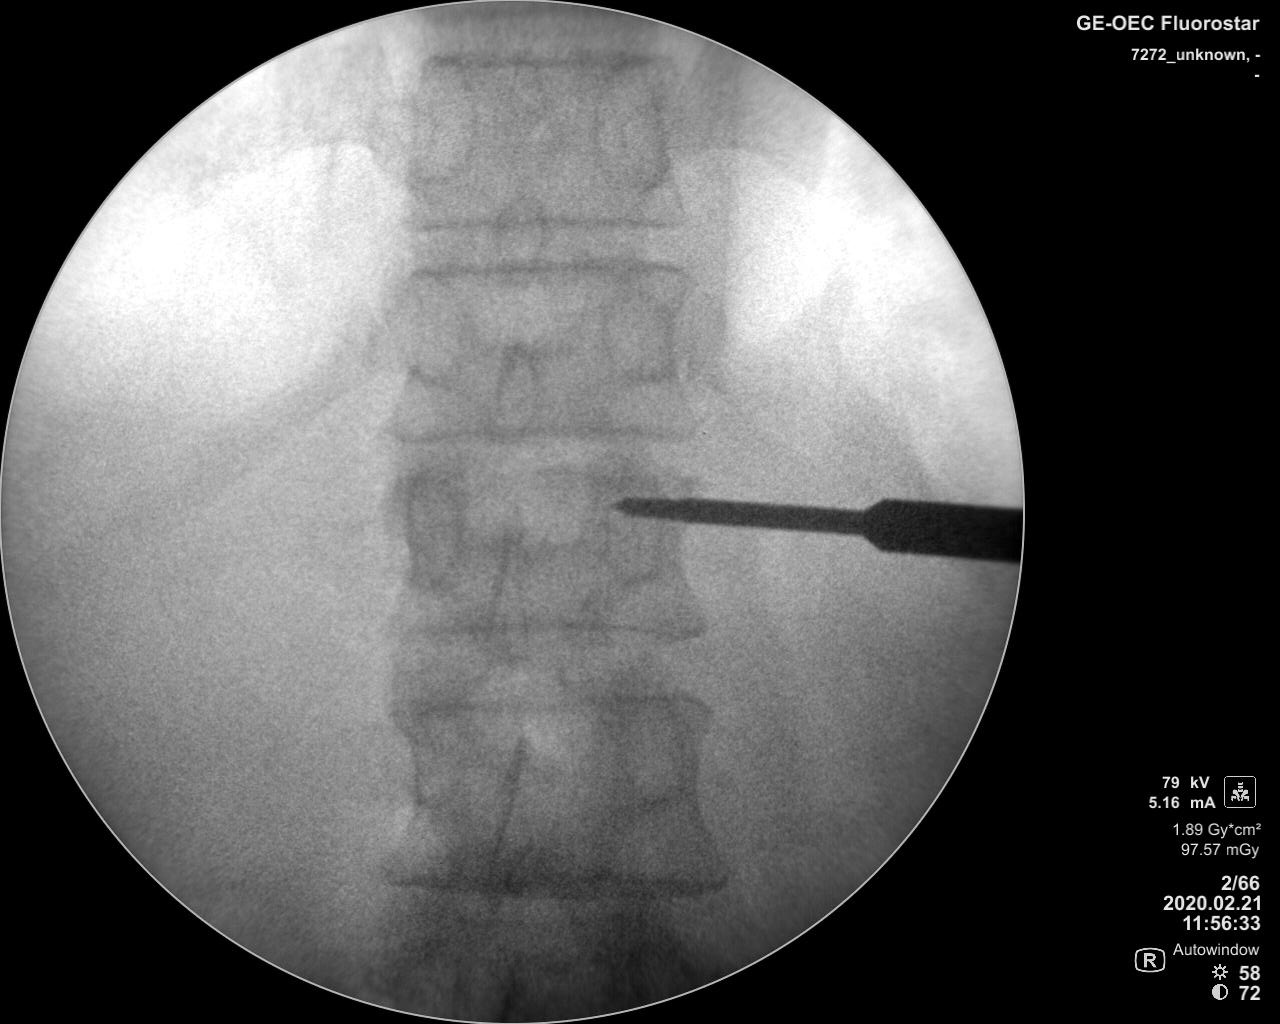eyes: (602, 259, 691, 381), (589, 65, 672, 195), (392, 467, 463, 602), (603, 703, 693, 806), (408, 55, 474, 191), (385, 711, 465, 813), (387, 277, 462, 381), (602, 476, 662, 587)
line: (376, 863, 735, 911), (381, 408, 698, 455), (378, 684, 729, 721), (399, 247, 699, 288), (387, 610, 714, 648), (406, 200, 686, 237), (417, 41, 670, 82)
nose: (489, 728, 546, 878), (484, 519, 536, 665), (491, 187, 551, 290), (488, 334, 540, 434), (501, 43, 554, 134)
